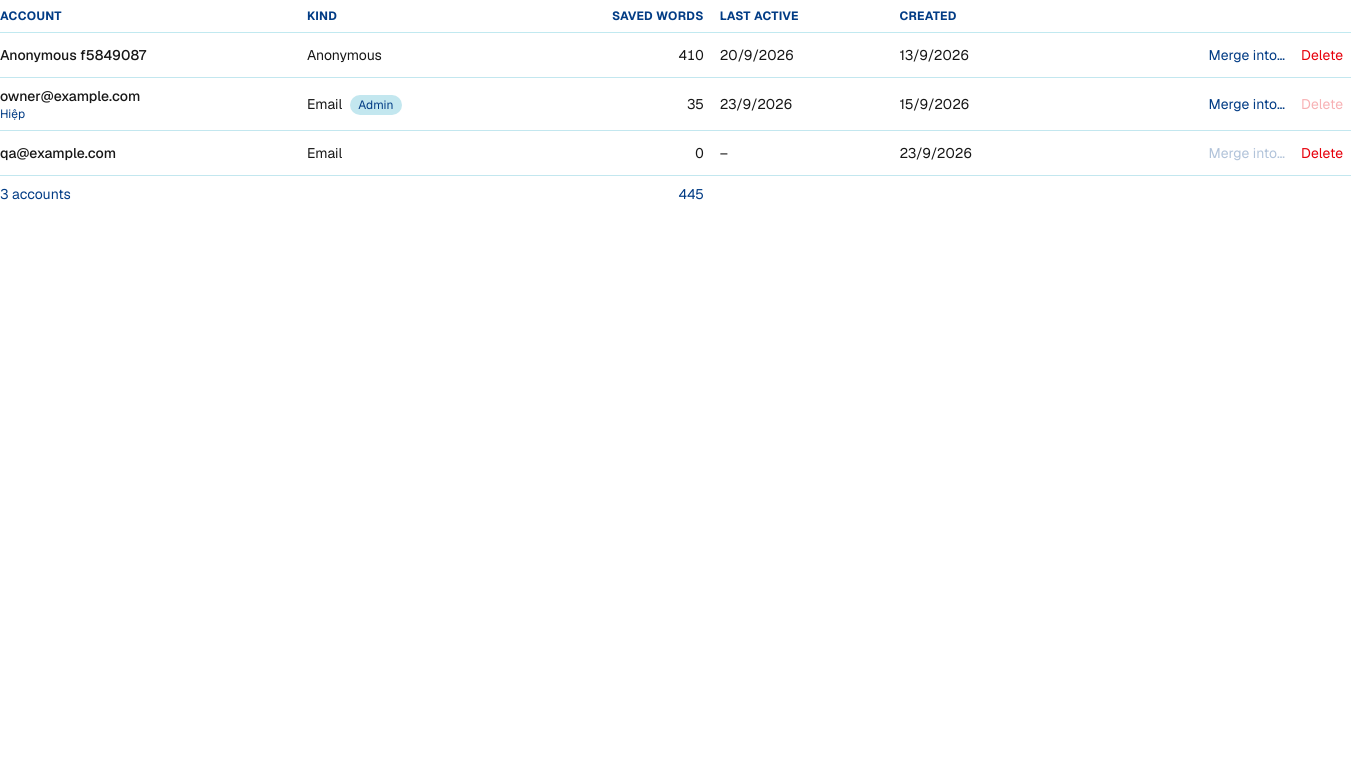
Scenario: AccountTable › asks for the id when the account has no email
Click the button "Delete" in the row of "Anonymous f5849087" at (1322, 55), box left=1293, top=41, right=1351, bottom=69
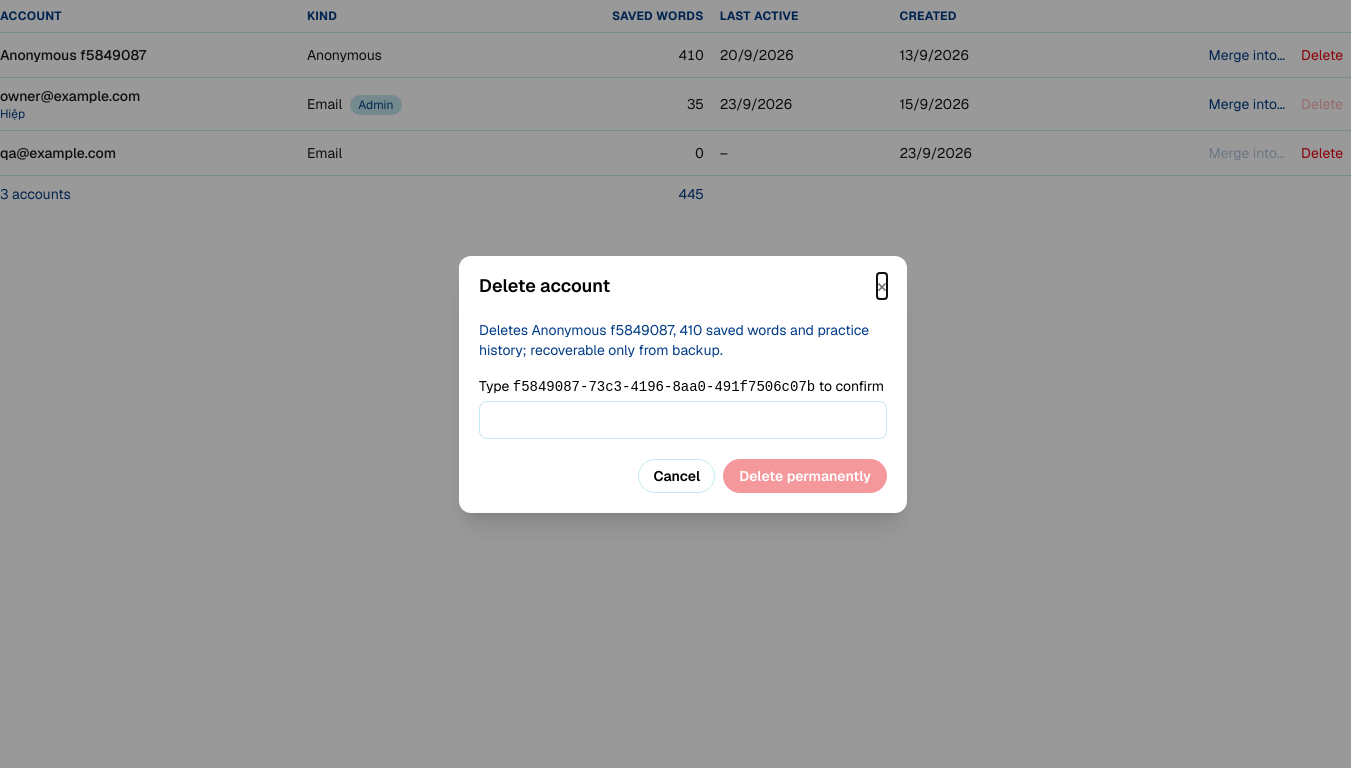
Check: the text "f5849087-73c3-4196-8aa0-491f7506c07b" is shown, box left=513, top=378, right=815, bottom=394
